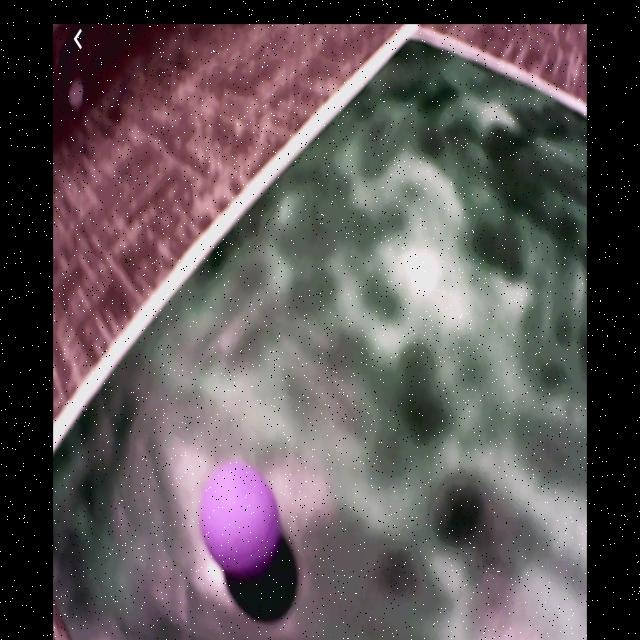ball: (200, 462, 281, 581)
